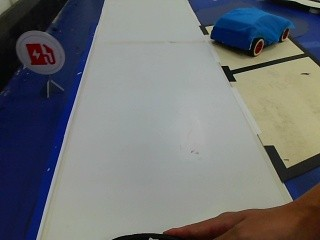battery: (14, 29, 65, 77)
car: (210, 6, 292, 58)
